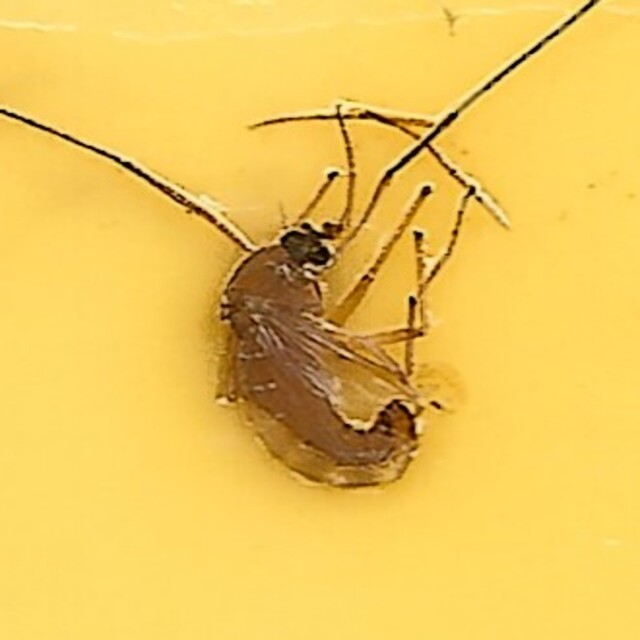Nematocera: (194, 164, 446, 476)
